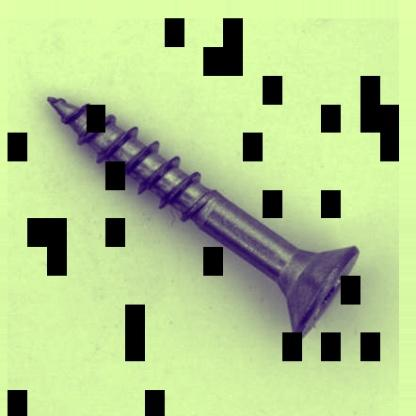metal: (46, 95, 359, 338)
